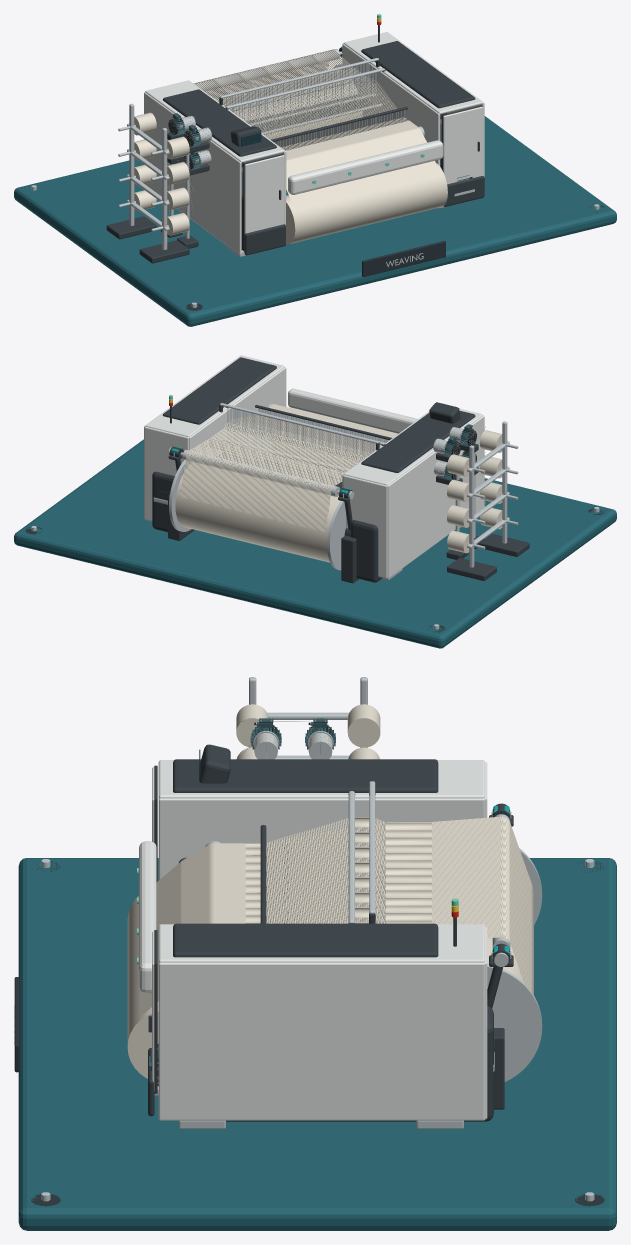
File: weaving.glb
3 views of the same model, one above another, from view 1: azimuth 30°, elevation 25°; view 2: azimuth 150°, elevation 25°; view 3: azimuth 270°, elevation 25° (orthographic). The views are drawn at different scales.
Visible parts, largest first — view 1: base_skid, continuous_woven_cloth, working_roll.004, ultimax_side_pod_side, white_operator_fascia, pod_top_dark_inset.001, ultimax_side_pod_side.002, service_door, service_door.001, pod_top_dark_inset, all_1440_healds.001, working_roll (+17 smaller); view 2: base_skid, working_roll, ultimax_side_pod_side, pod_top_dark_inset.001, ultimax_side_pod_side.002, pod_top_dark_inset, all_1440_healds, white_operator_fascia, ultimax_side_pod_rear, ultimax_side_pod_rear.001, working_roll.001, main_cast_sideframe (+21 smaller); view 3: base_skid, ultimax_side_pod_side.003, ultimax_side_pod_side.001, pod_top_dark_inset.001, pod_top_dark_inset, continuous_woven_cloth, ultimax_side_pod_roof.001, ultimax_side_pod_roof, beam_flange.001, working_roll.004, white_operator_fascia, weft_package.007 (+6 smaller).
Part boxes in pixels (x1,y1,x2,y2): base_skid: (14,116,616,326); continuous_woven_cloth: (286,120,440,210); working_roll.004: (286,163,447,244); ultimax_side_pod_side: (144,92,241,254); white_operator_fascia: (288,140,443,194); pod_top_dark_inset.001: (361,41,475,108); ultimax_side_pod_side.002: (342,44,440,166); service_door: (244,155,284,233); service_door.001: (443,106,482,184); pod_top_dark_inset: (163,89,276,156); all_1440_healds.001: (233,72,377,130); working_roll: (216,70,362,139); base_skid: (14,439,616,648); working_roll: (175,462,340,562); ultimax_side_pod_side: (387,415,484,578); pod_top_dark_inset.001: (162,357,276,424); ultimax_side_pod_side.002: (189,367,286,529); pod_top_dark_inset: (361,411,475,472); all_1440_healds: (227,407,371,466); white_operator_fascia: (288,388,417,433); ultimax_side_pod_rear: (343,475,387,578); ultimax_side_pod_rear.001: (144,426,189,529); working_roll.001: (182,449,340,496); main_cast_sideframe: (350,520,382,582); base_skid: (18,858,616,1230); ultimax_side_pod_side.003: (158,962,484,1120); ultimax_side_pod_side.001: (158,798,484,923); pod_top_dark_inset.001: (173,923,438,957); pod_top_dark_inset: (173,759,438,792); continuous_woven_cloth: (140,843,245,1016); ultimax_side_pod_roof.001: (158,924,484,962); ultimax_side_pod_roof: (158,760,484,798); beam_flange.001: (487,964,542,1081); working_roll.004: (127,895,158,1078); white_operator_fascia: (139,841,156,993); weft_package.007: (347,704,380,747).
Bounding box in the file's own units: 6.2 × 1.96 × 4.44.
